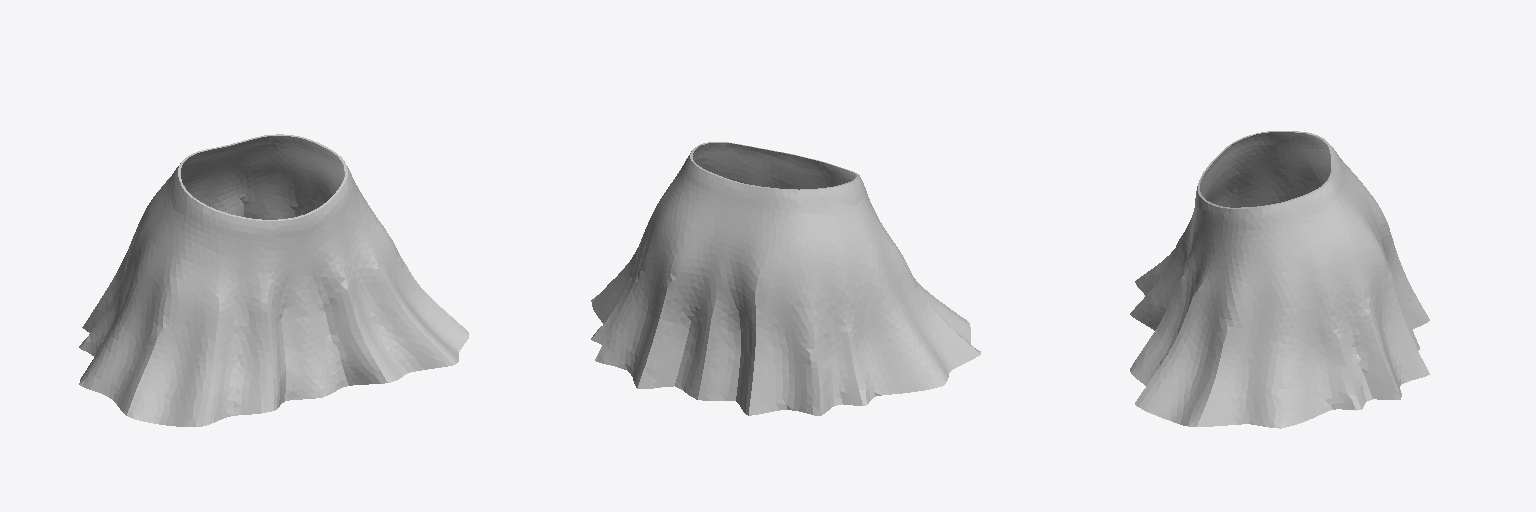
File: skirt7271.obj
3 views of the same model, side by side, from view 1: azimuth 30°, elevation 25°; view 2: azimuth 150°, elevation 25°; view 3: azimuth 270°, elevation 25° (orthographic).
Bounding box in the file's own units: 0.495 × 0.2519 × 0.3663.